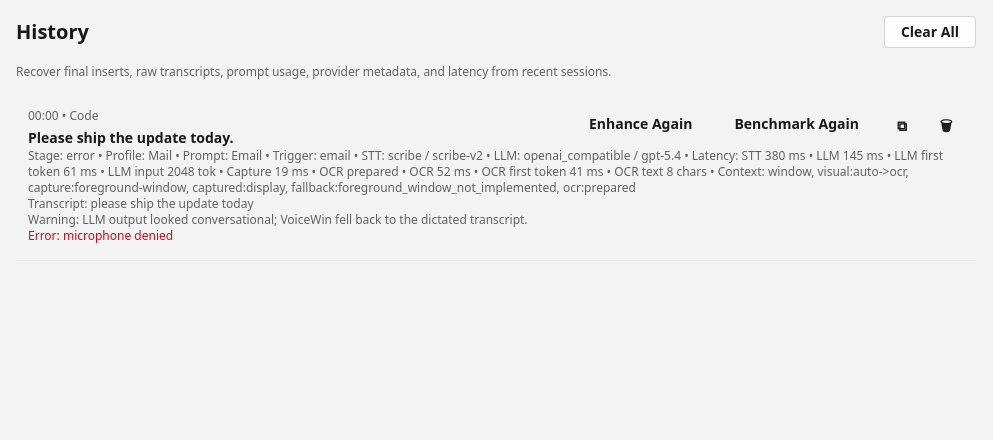
it: HistoryPage › replays a history entry through prompt preview
The width and height of the screenshot is (993, 440).
Expected: the text "Please ship the update today." is shown, [28,128,234,147]
Click the button "Enhance Again" at (641, 124), box [572,108,709,140]
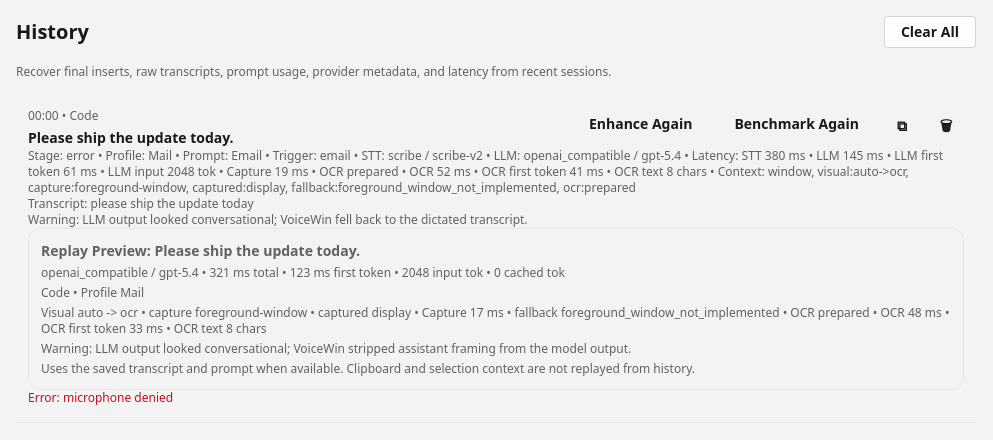
Result: the text "Replay Preview: Please ship the update today." is shown at [41,241,360,260]
Result: the text "openai_compatible / gpt-5.4 • 321 ms total • 123 ms first token • 2048 input tok • 0 cached tok" is shown at [41,264,565,281]
Result: the text "Code • Profile Mail" is shown at [41,284,144,301]
